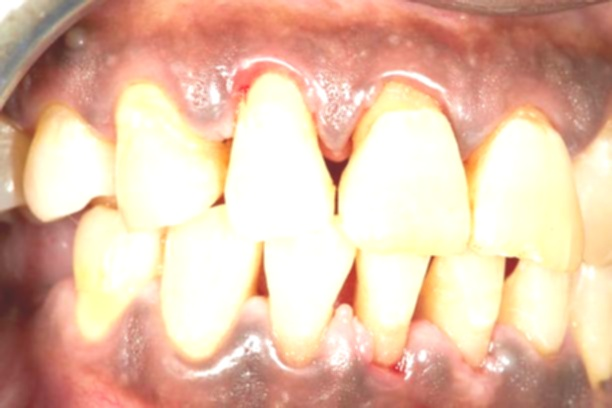Gingivitis: (172, 20, 246, 128), (94, 299, 171, 393), (539, 36, 607, 140), (439, 35, 500, 150), (206, 321, 283, 402), (494, 343, 592, 404), (62, 27, 122, 125), (310, 35, 364, 136), (304, 351, 372, 403), (412, 347, 452, 402)
